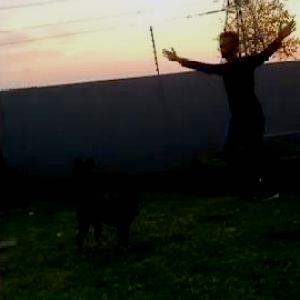takeoff: (183, 38, 297, 181)
